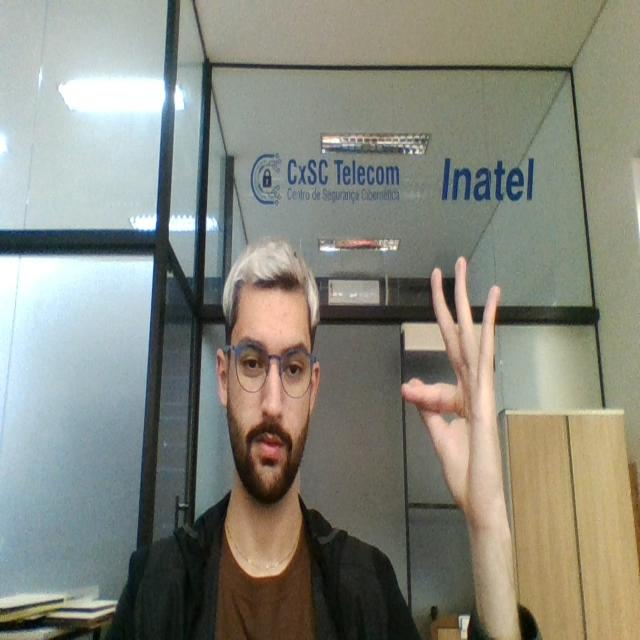F: (393, 251, 513, 537)
